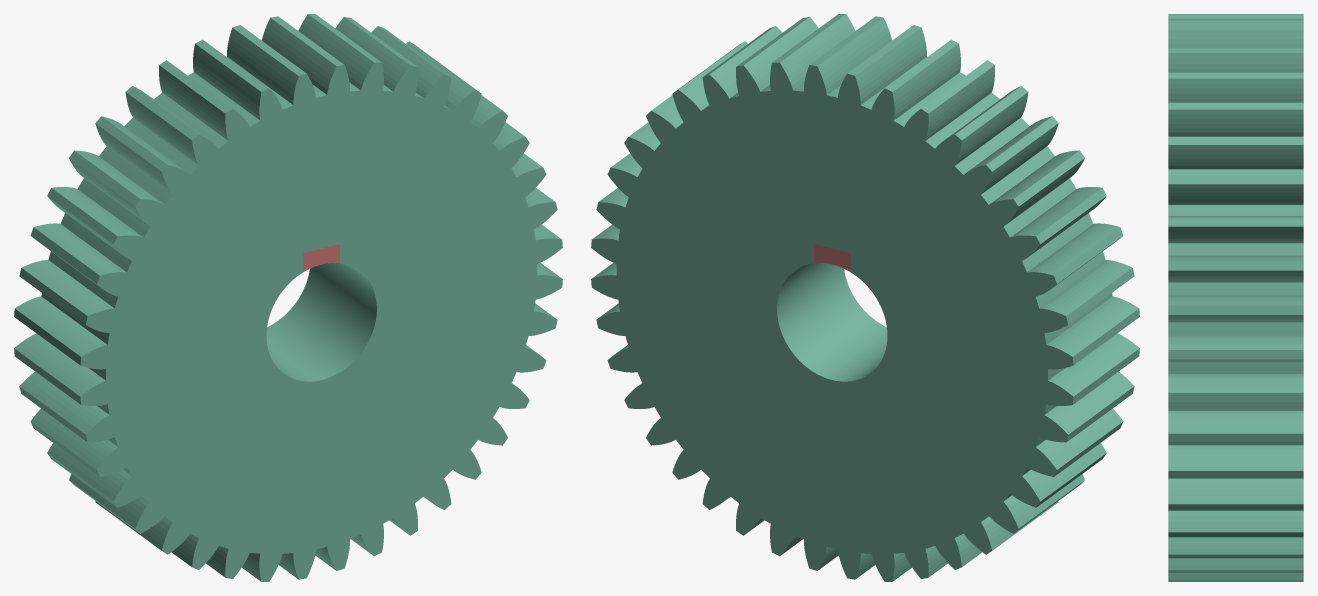
File: step_14.glb
3 views of the same model, side by side, from view 1: azimuth 30°, elevation 25°; view 2: azimuth 150°, elevation 25°; view 3: azimuth 270°, elevation 25° (orthographic).
Visible parts, largest first — view 1: part__gear wheel; view 2: part__gear wheel; view 3: part__gear wheel.
Part boxes in pixels (left/top/right/bottom): part__gear wheel: left=14, top=14, right=562, bottom=581; part__gear wheel: left=591, top=14, right=1139, bottom=581; part__gear wheel: left=1168, top=14, right=1303, bottom=581.
Size of the model in its own units: 105 by 105 by 25.
